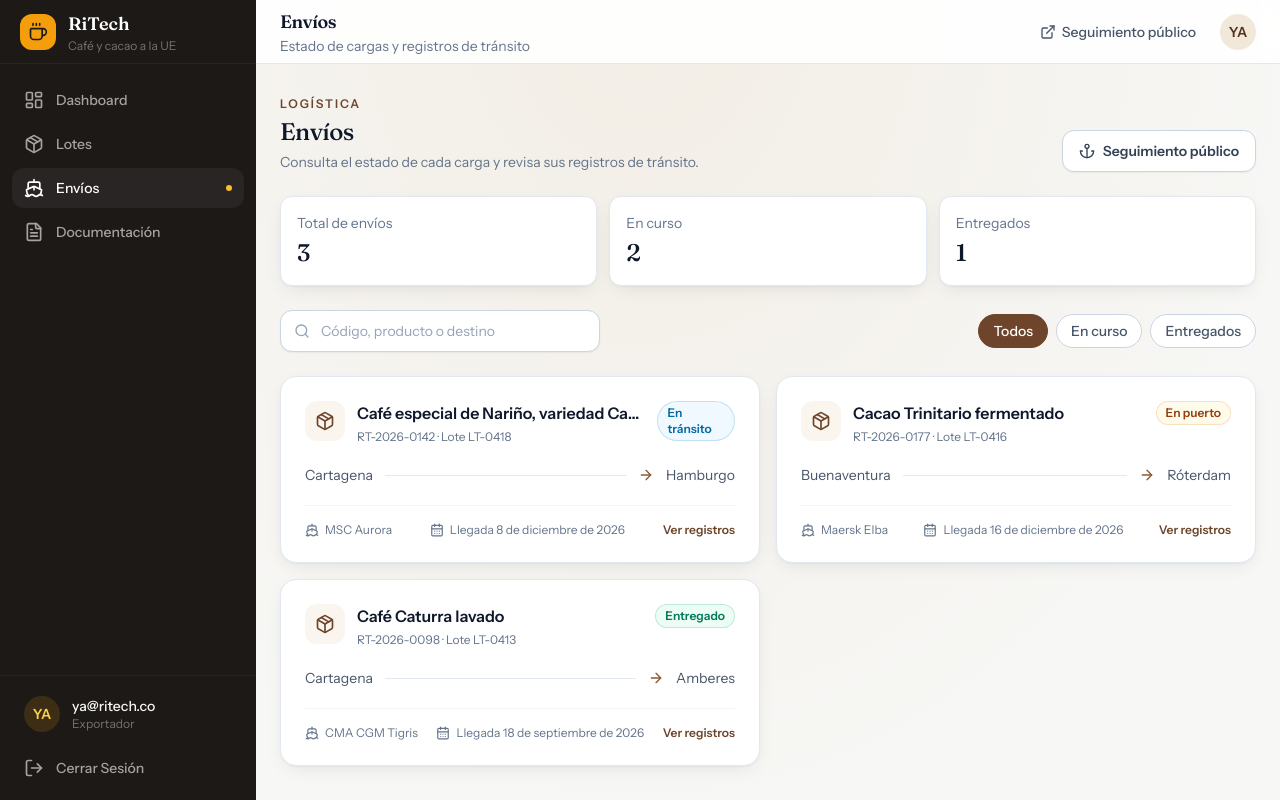
Test: App (integración: rutas + sesión + vistas) › abre un producto desde Envíos y muestra sus registros de tránsito
Click the link "Envíos" at (128, 188), box [12,168,244,208]
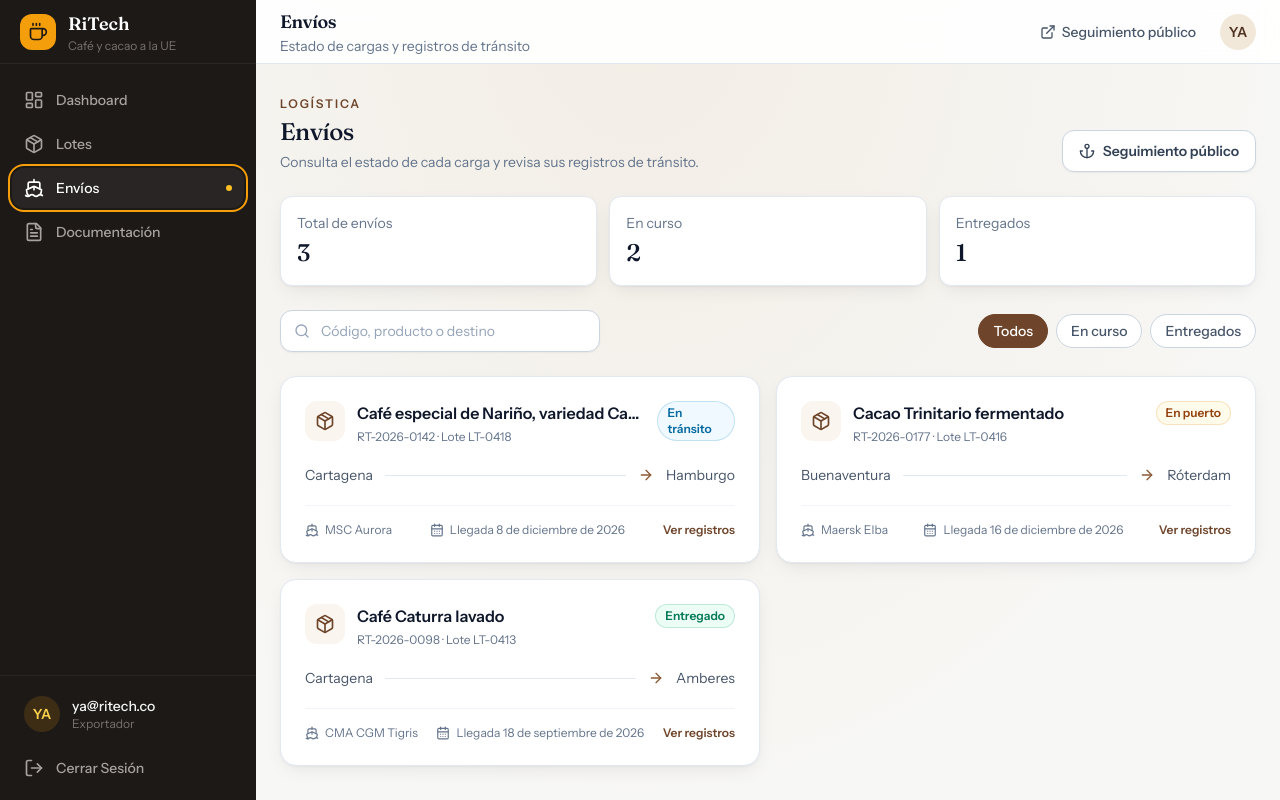
Click the link "RT-2026-0142" at (325, 421), box [280,376,760,563]
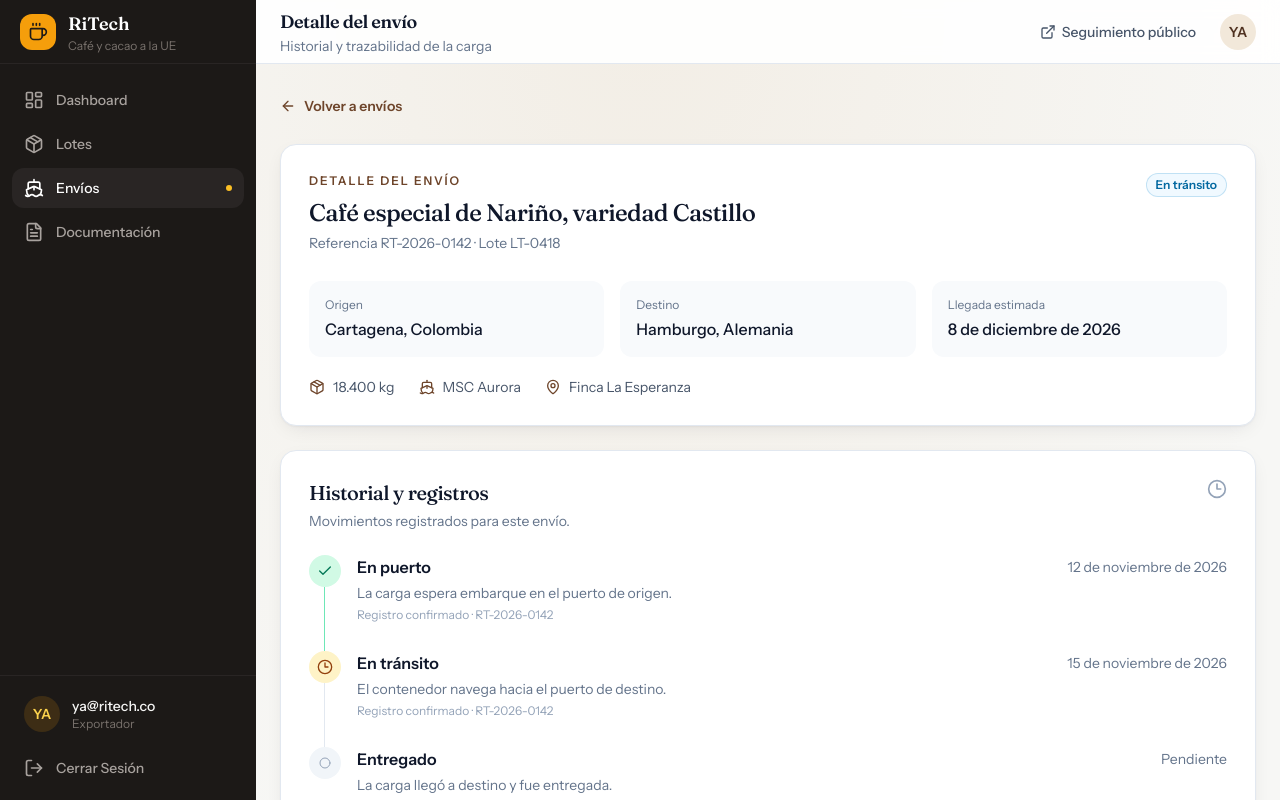
Check: the heading "Historial y registros" is shown, box [309,480,488,505]
Check: the text "Referencia RT-2026-0142 · Lote LT-0418" is shown, box [309,234,560,252]
